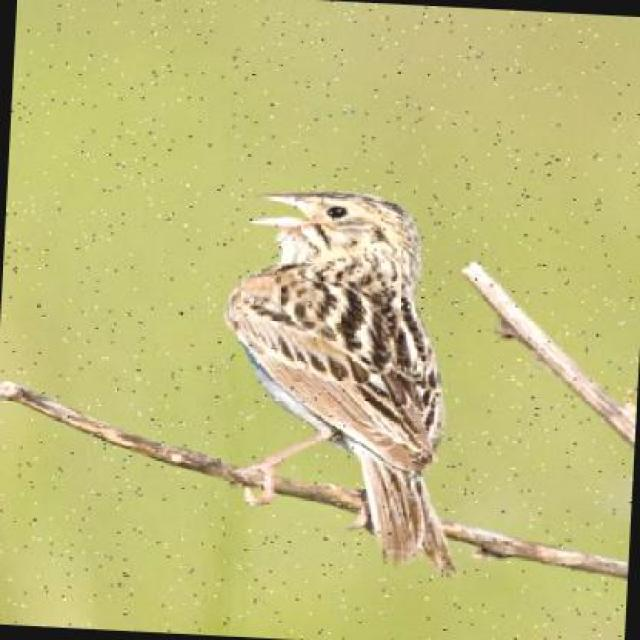Bird: (212, 152, 464, 583)
